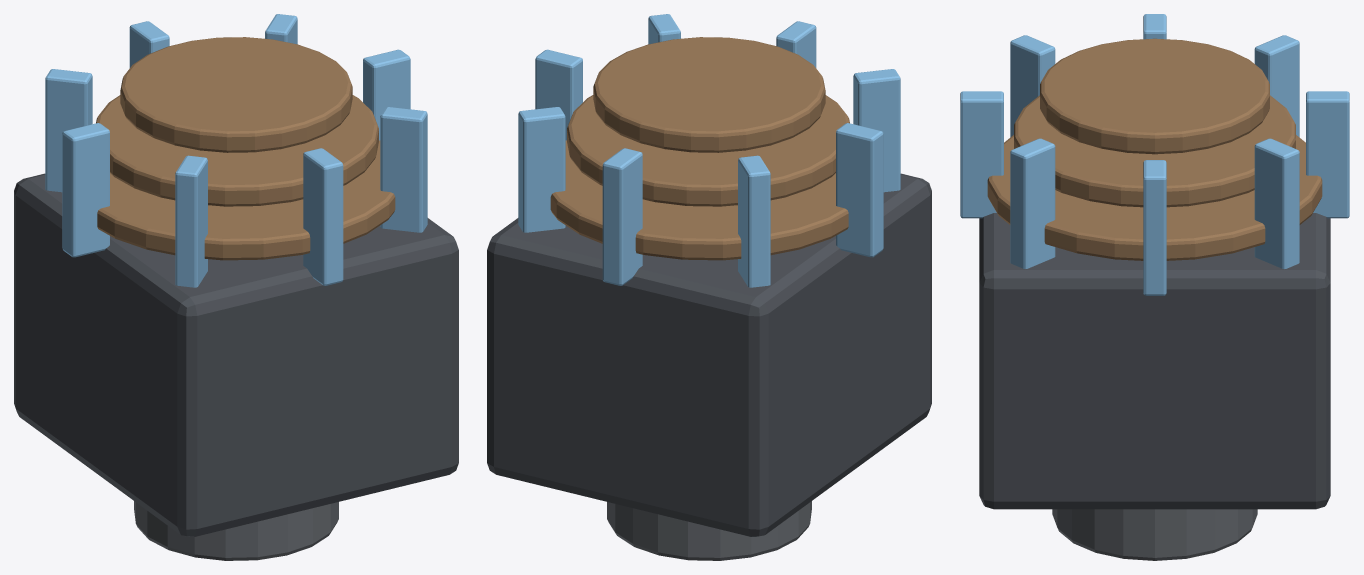
The model's file is module_aux_shield.fbx.
The picture shows the model from 3 angles, left to right: view 1: azimuth 30°, elevation 25°; view 2: azimuth 150°, elevation 25°; view 3: azimuth 270°, elevation 25°; orthographic projection.
Parts seen in each view (by area): view 1: SM_Module_AuxShield; view 2: SM_Module_AuxShield; view 3: SM_Module_AuxShield.
Part boxes in pixels (<box>): SM_Module_AuxShield: <box>14,14,458,560</box>; SM_Module_AuxShield: <box>487,14,931,560</box>; SM_Module_AuxShield: <box>960,14,1349,560</box>.
Size of what is drawn, in the model's own units: 26.6 by 32.7 by 26.6.
